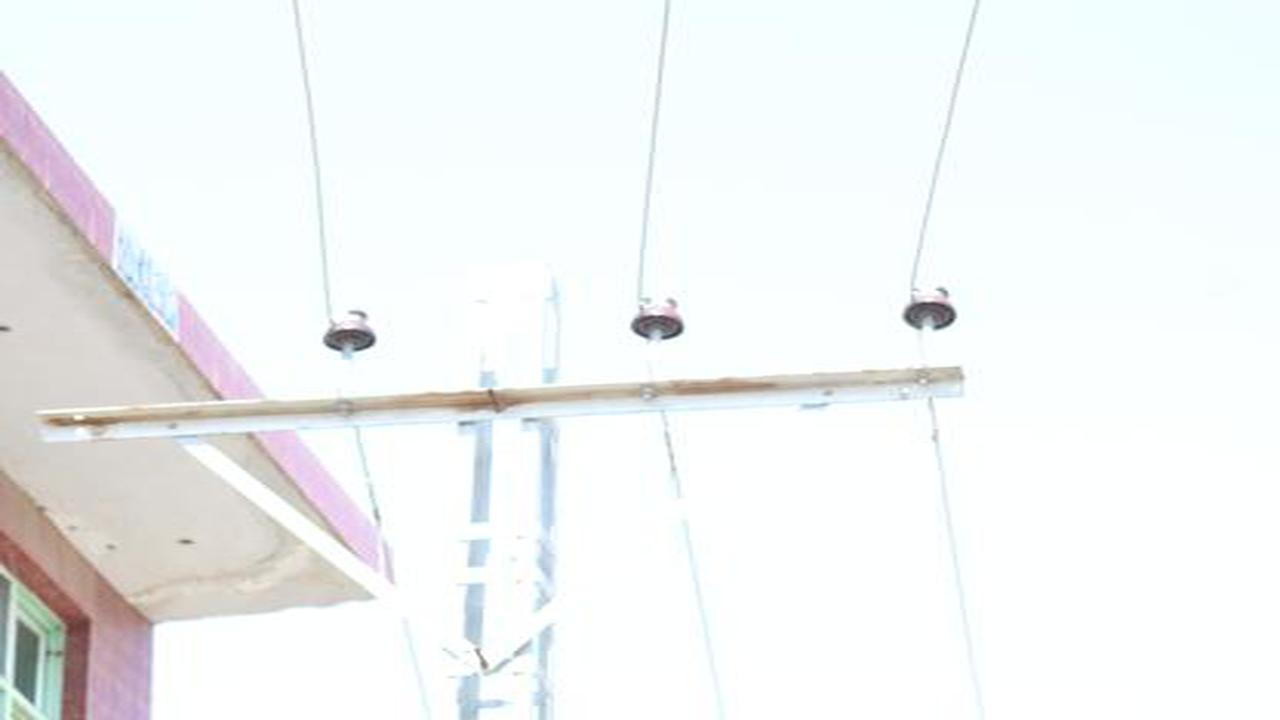insulator_pin: (900, 282, 962, 334), (629, 294, 688, 341), (323, 305, 378, 354)
